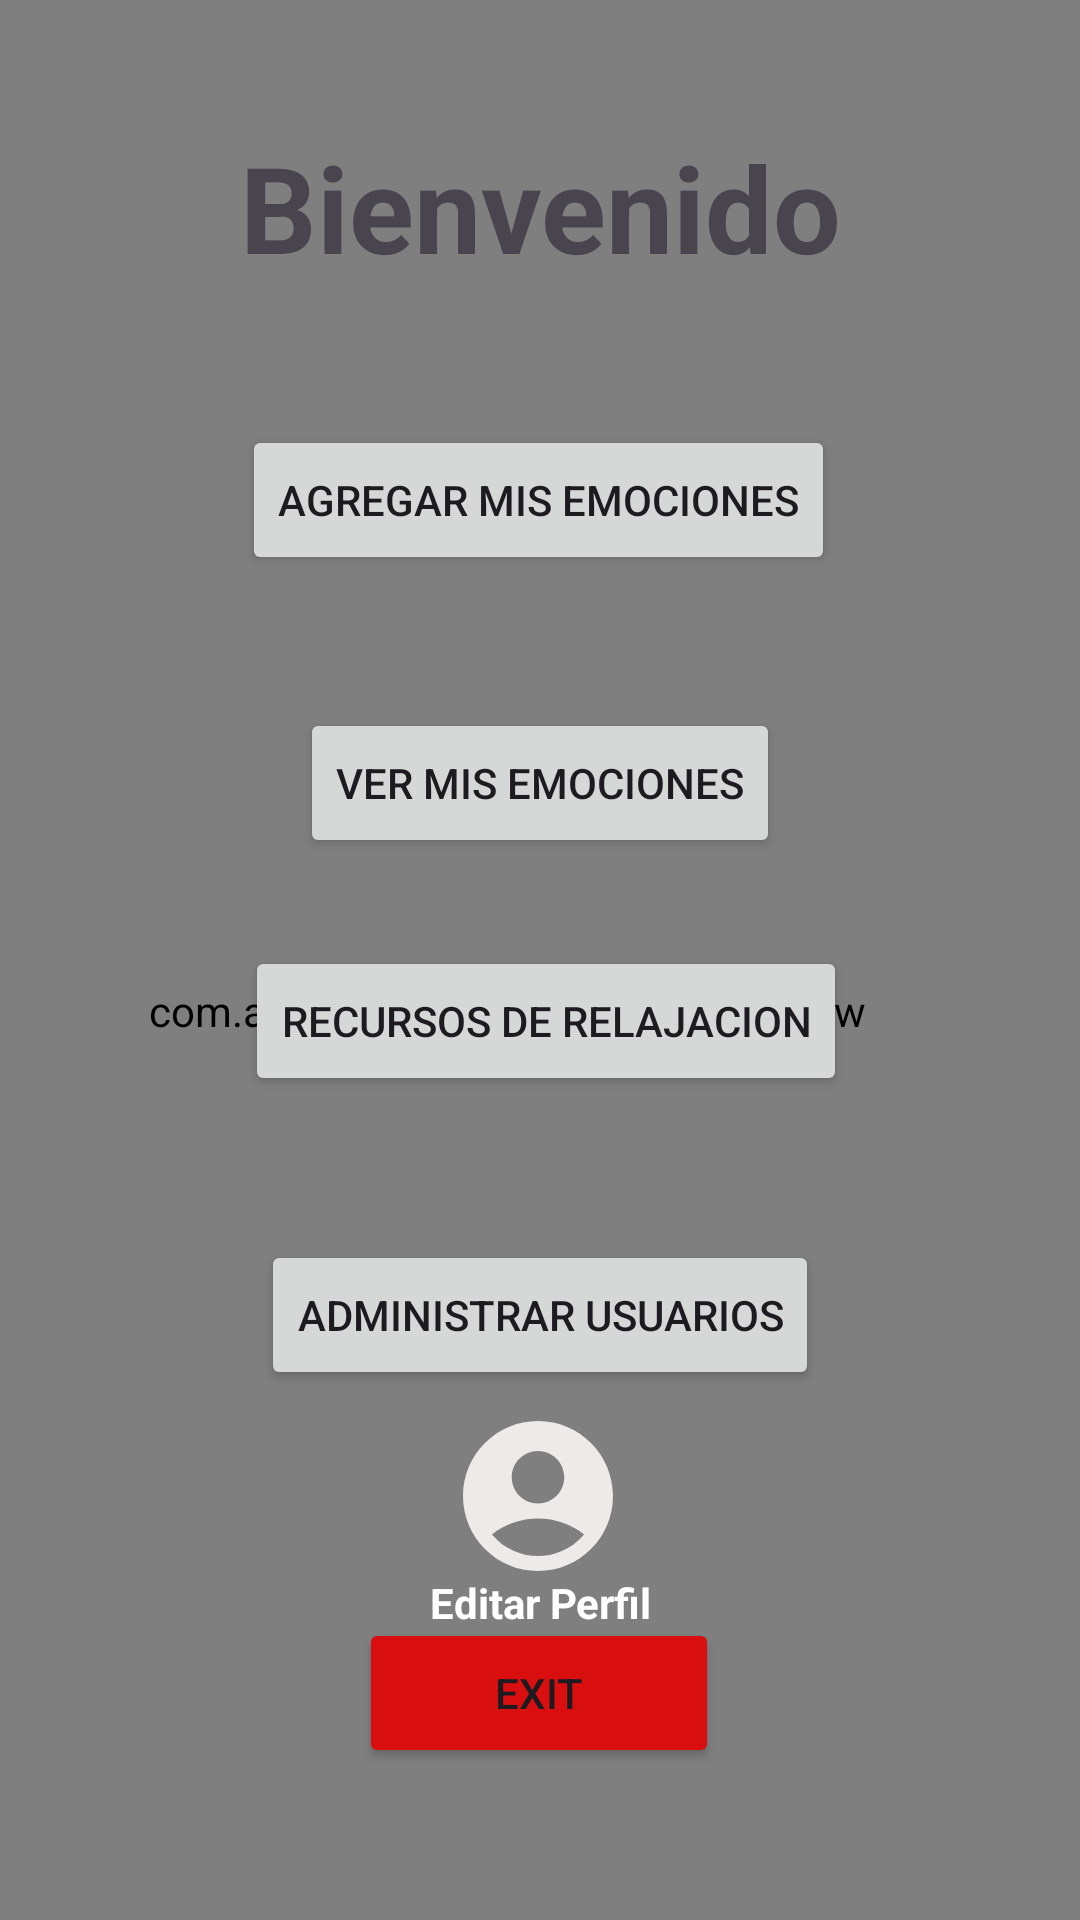

Named icons in this screenshot (1080*1920) and their bounding boxes, (x1, y1, x2, y2):
account circle: (463, 1421, 613, 1571)
